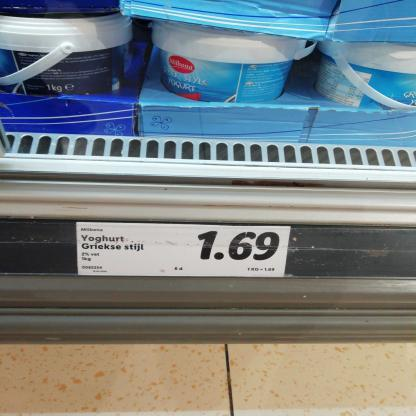prtg: (77, 223, 292, 279)
